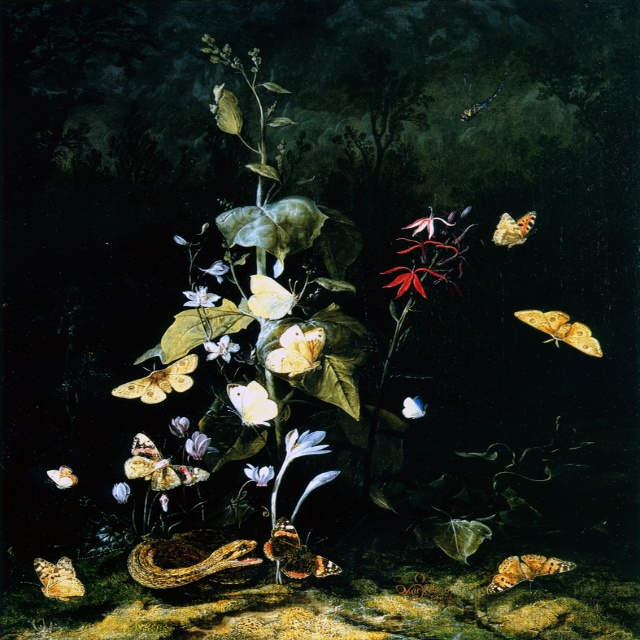Butterfly: (123, 432, 211, 490), (263, 516, 345, 577), (109, 352, 197, 405), (512, 307, 604, 357), (484, 556, 575, 597), (263, 324, 326, 377), (244, 276, 311, 321), (223, 380, 279, 430), (32, 554, 87, 600), (459, 73, 505, 125), (489, 208, 536, 250), (45, 465, 77, 489), (403, 395, 429, 420)
